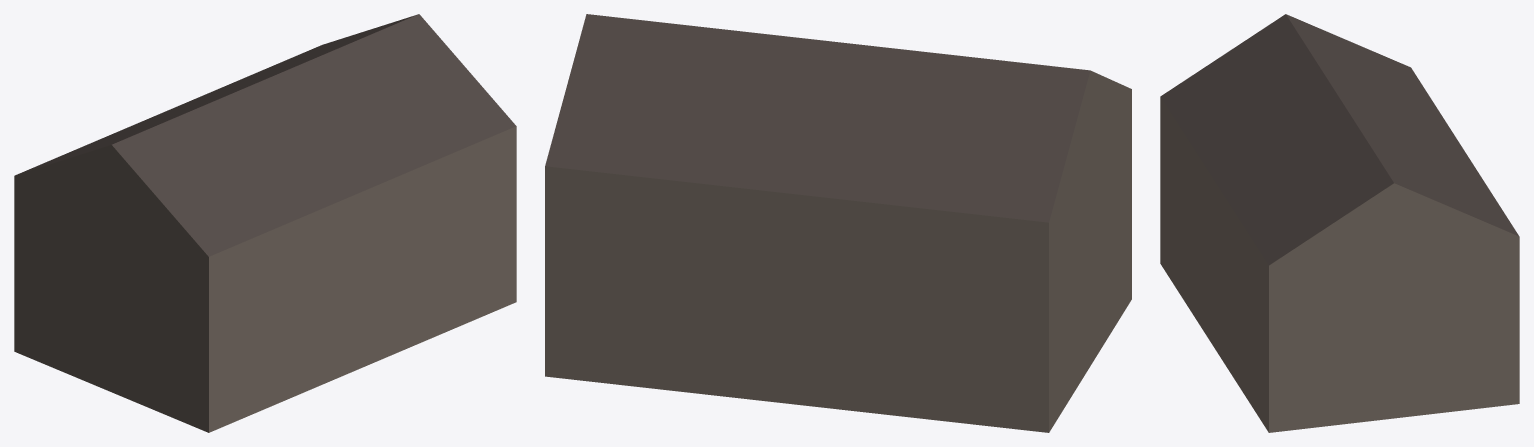
3 renders of one model, left to right at view 1: azimuth 30°, elevation 25°; view 2: azimuth 150°, elevation 25°; view 3: azimuth 270°, elevation 25°, orthographic. The views are drawn at different scales.
Parts seen in each view (by area): view 1: HP-w373833547; view 2: HP-w373833547; view 3: HP-w373833547.
Boxes of the visible parts, left/top/right/bottom form: HP-w373833547: left=14, top=14, right=516, bottom=432; HP-w373833547: left=545, top=14, right=1131, bottom=432; HP-w373833547: left=1160, top=14, right=1519, bottom=432.
Size of the model in its own units: 22.86 by 12.66 by 17.51.
